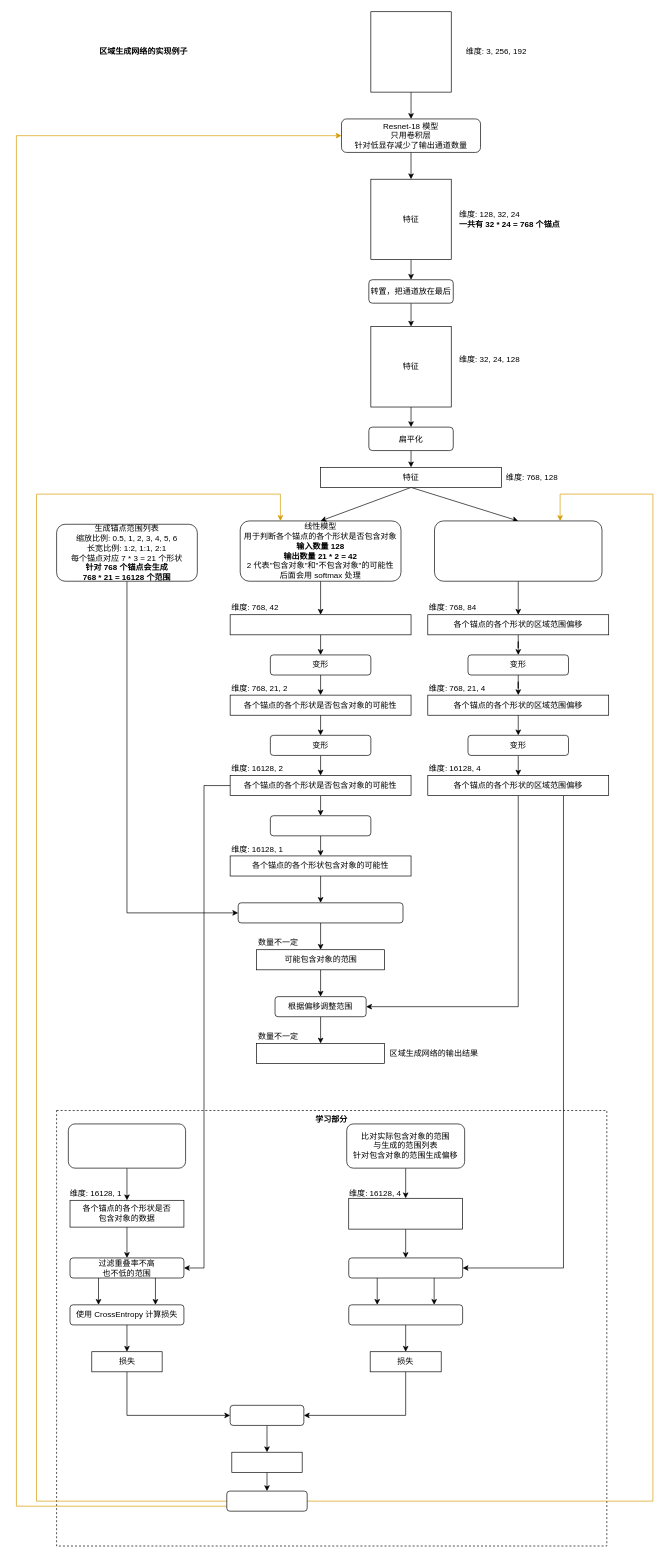
Some shapes in this 670 by 1558 pixel diagram are drawn without their labels. The shapes that lost their labels are listed below. From the top down, each one's centre as x and y in pixels, then its label:
the point at 410,51: 图片
the point at 518,550: 线性模型 用于判断各个锚点的各个形状的区域范围偏移 输入数量 128 输出数量 21 * 4 = 84 4 代表 x, y, w, h 的偏移
the point at 320,624: 各个锚点的各个形状是否包含对象
the point at 320,825: softmax 提取包含对象的可能性
the point at 320,912: 如果可能性大于 90%，则判断可能包含对象 结合范围列表提取范围
the point at 320,1053: 经过调整后的可能包含对象的范围
the point at 127,1145: 比对实际包含对象的范围 与生成的范围列表的重叠率 得出各个锚点的各个形状是否 包含对象的数据 (0 或 1)
the point at 405,1213: 各个锚点的各个形状中 包含对象的范围的偏移数据 不包含对象的范围偏移为 0
the point at 405,1267: 过滤不包含对象的范围
the point at 405,1314: 使用 Smooth L1 计算损失
the point at 266,1415: 使用 + 合并损失
the point at 266,1462: 合并后的损失
the point at 266,1500: 调整模型参数
